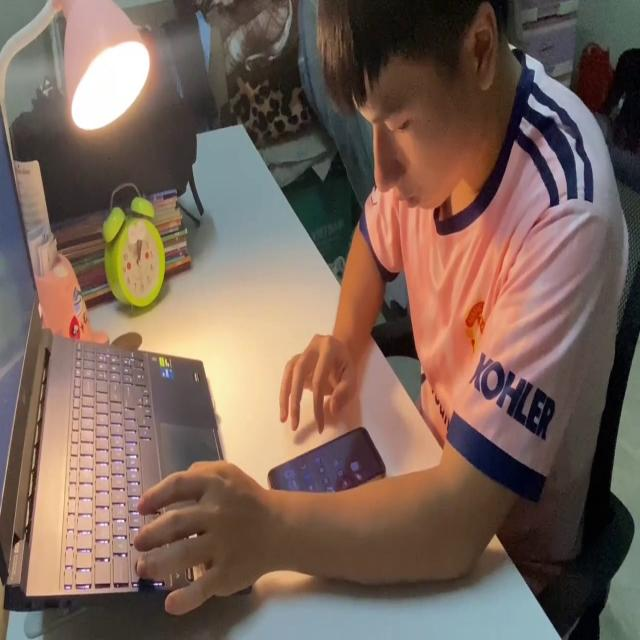laptop: (0, 91, 256, 614)
phone: (268, 417, 389, 495)
student: (131, 0, 629, 614)
